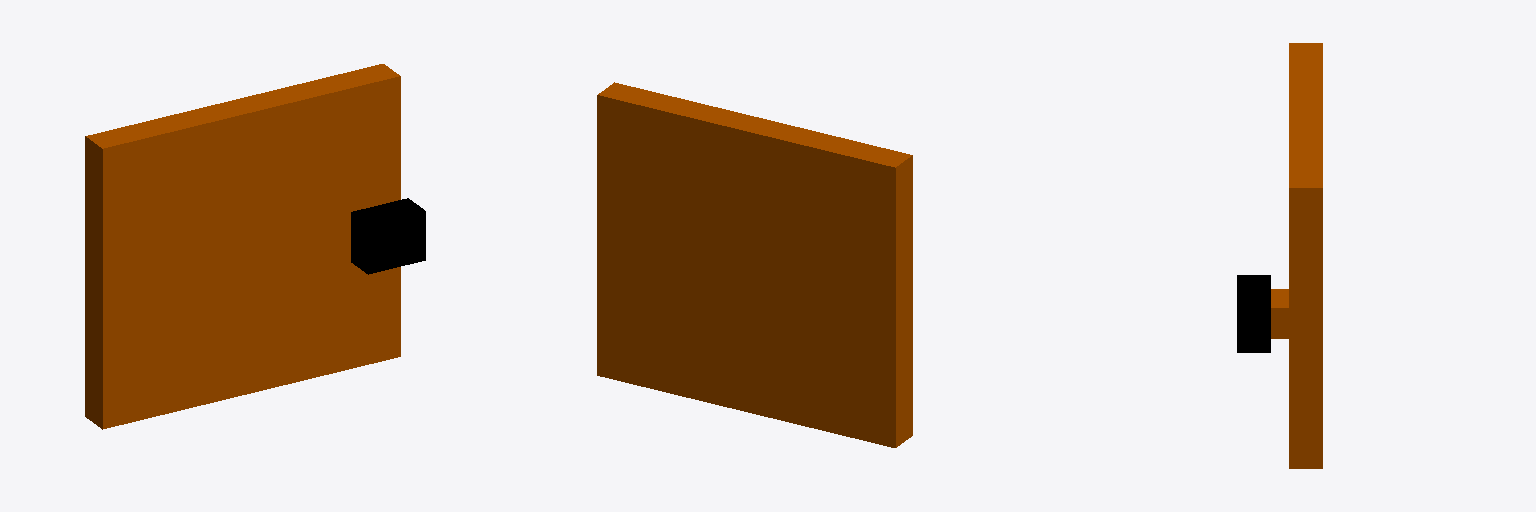
The model's file is CabinetDoor.obj.
3 renders of one model, left to right at view 1: azimuth 30°, elevation 25°; view 2: azimuth 150°, elevation 25°; view 3: azimuth 270°, elevation 25°, orthographic.
Parts seen in each view (by area): view 1: CabinetDoor; view 2: CabinetDoor; view 3: CabinetDoor.
Boxes of the visible parts, x1,y1,x2,y2 form: CabinetDoor: [85, 64, 425, 429]; CabinetDoor: [597, 82, 912, 447]; CabinetDoor: [1237, 43, 1322, 468].
Bounding box in the file's own units: 1 × 0.9 × 0.25.